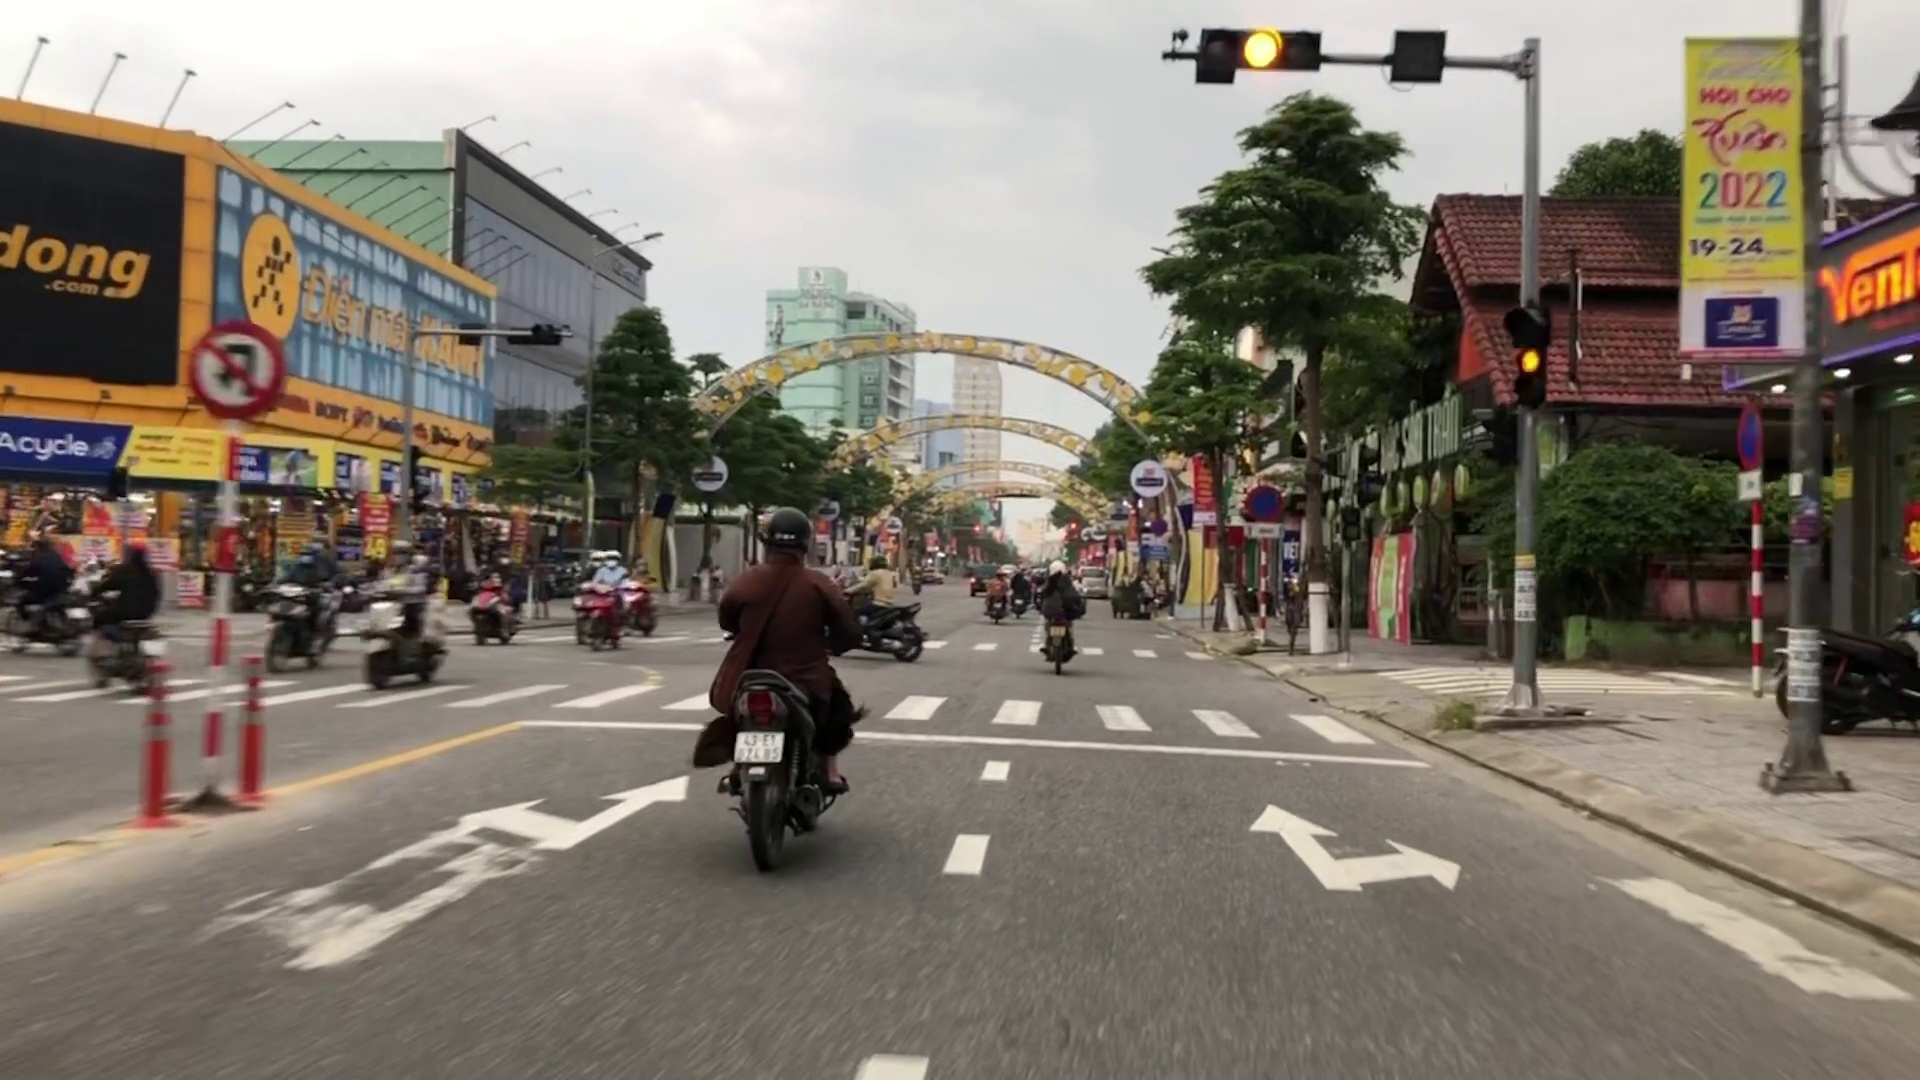Cam do xe: (1240, 477, 1287, 527), (1735, 405, 1763, 467)
